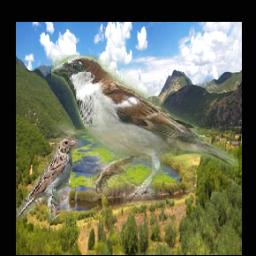Sparrow: (51, 56, 238, 206), (18, 137, 79, 223)
